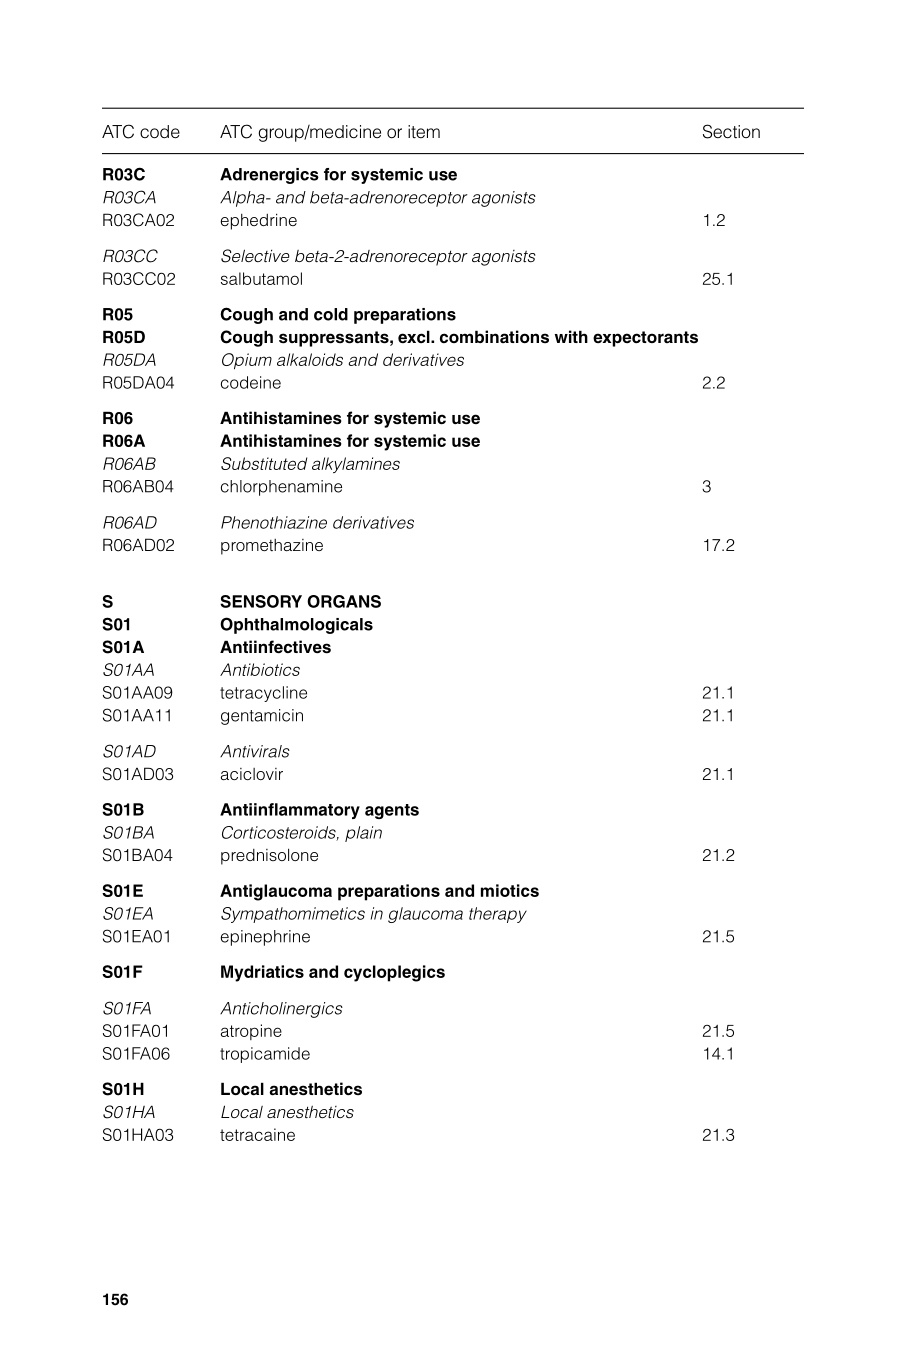partial_lined: (100, 107, 803, 1146)
